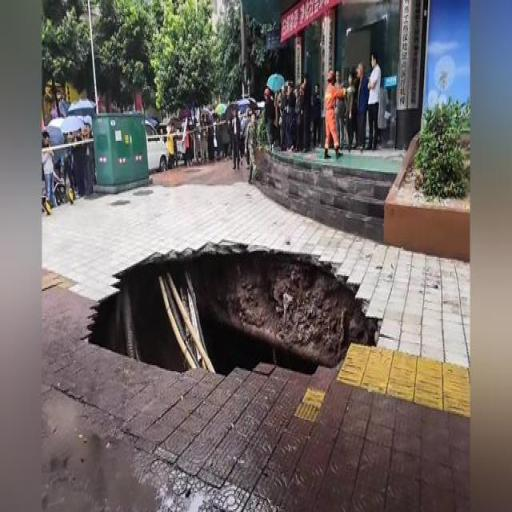Concentric_Crack: (89, 239, 381, 374)
